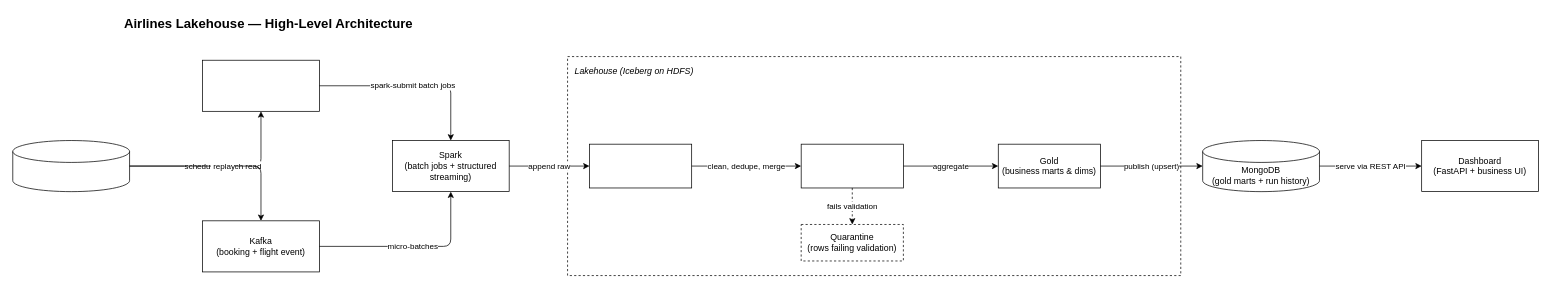
Some shapes in this 1551 by 288 pixel diagram are drawn without their labels. The shapes that lost their labels are listed below. From the top down, each one's centre as x and y in pixels, then its label:
[260,85]: Airflow (daily batch)
[71,166]: PostgreSQL
[640,165]: Bronze (raw append)
[851,165]: Silver (cleaned & conformed)
